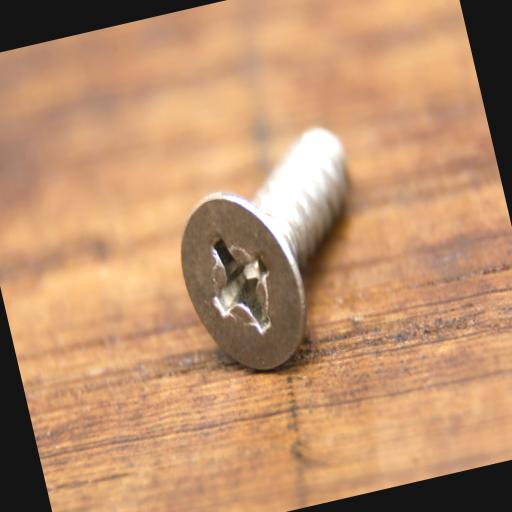Phillips: (168, 182, 318, 386)
